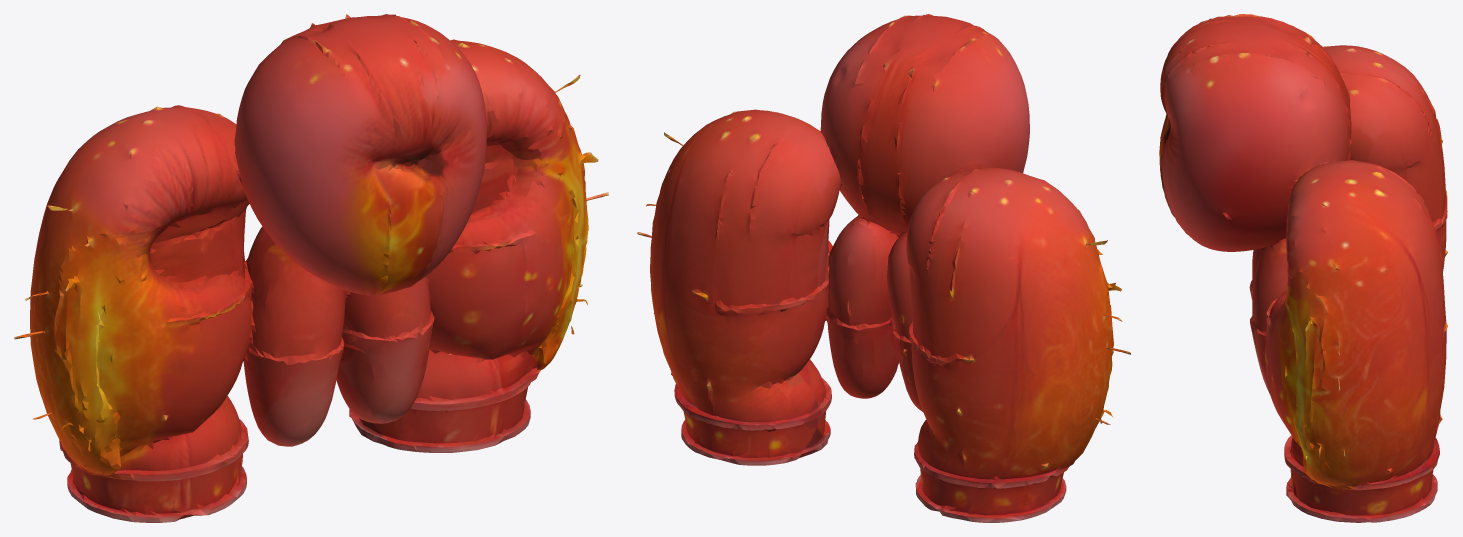
Rendered from boxing_gloves.glb.
3 renders of one model, left to right at view 1: azimuth 30°, elevation 25°; view 2: azimuth 150°, elevation 25°; view 3: azimuth 270°, elevation 25°, orthographic. The views are drawn at different scales.
Visible parts, largest first — view 1: boxing_gloves; view 2: boxing_gloves; view 3: boxing_gloves.
Part boxes in pixels (x1,y1,x2,y2): boxing_gloves: [14, 14, 608, 522]; boxing_gloves: [637, 14, 1130, 522]; boxing_gloves: [1159, 14, 1447, 522].
Size of the model in its own units: 1.84 by 1.4 by 0.911.
1 material, 1 textured.
